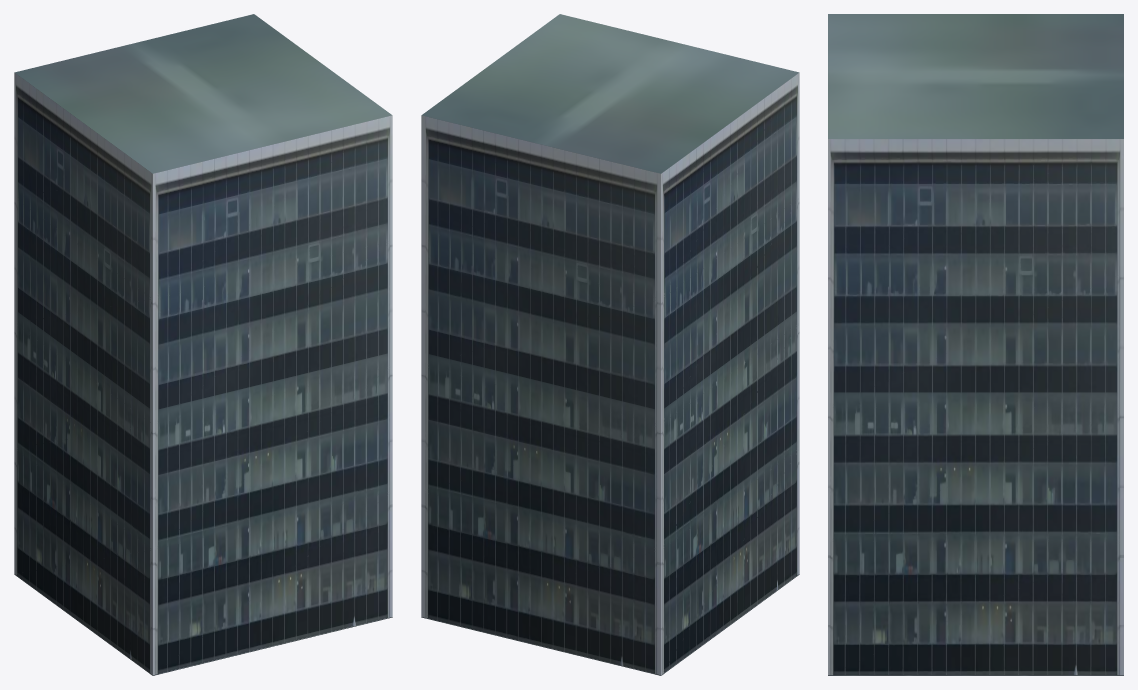
File: 2x2_Lbuilding.dae
3 renders of one model, left to right at view 1: azimuth 30°, elevation 25°; view 2: azimuth 150°, elevation 25°; view 3: azimuth 270°, elevation 25°, orthographic. The views are drawn at different scales.
Parts seen in each view (by area): view 1: pCube1; view 2: pCube1; view 3: pCube1.
Part boxes in pixels (x1,y1,x2,y2): pCube1: (14, 14, 392, 675); pCube1: (421, 14, 799, 675); pCube1: (828, 14, 1123, 675).
Bounding box in the file's own units: 200 × 400 × 200.
